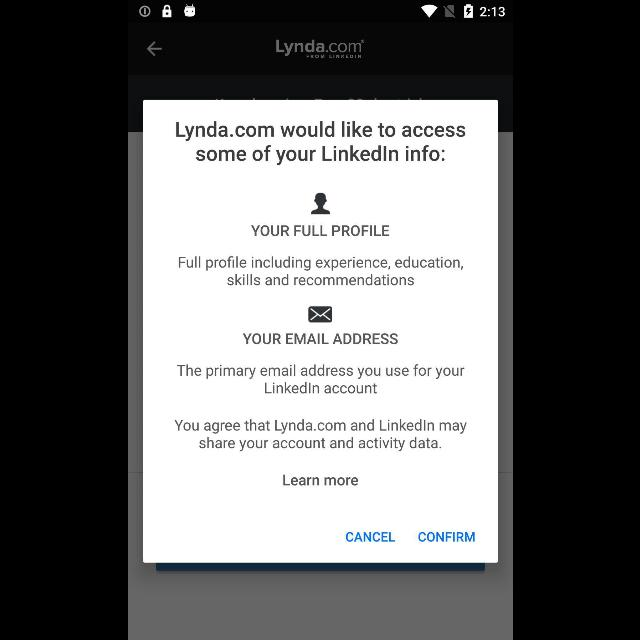icon: (310, 193, 330, 215), (308, 306, 332, 322), (146, 42, 162, 56)
image: (276, 40, 364, 59)
panel: (142, 100, 498, 562)
text: (176, 122, 464, 166), (174, 418, 466, 452), (176, 364, 464, 394), (178, 256, 462, 286), (242, 333, 398, 345), (250, 226, 388, 237), (282, 474, 358, 486), (418, 532, 474, 542), (345, 532, 395, 542)
uppertaskbar: (128, 1, 512, 23)
